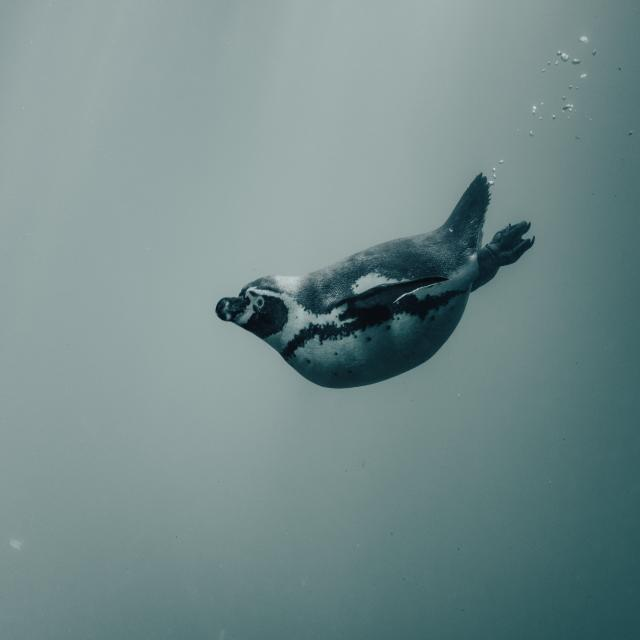Penguins: (212, 204, 534, 396)
